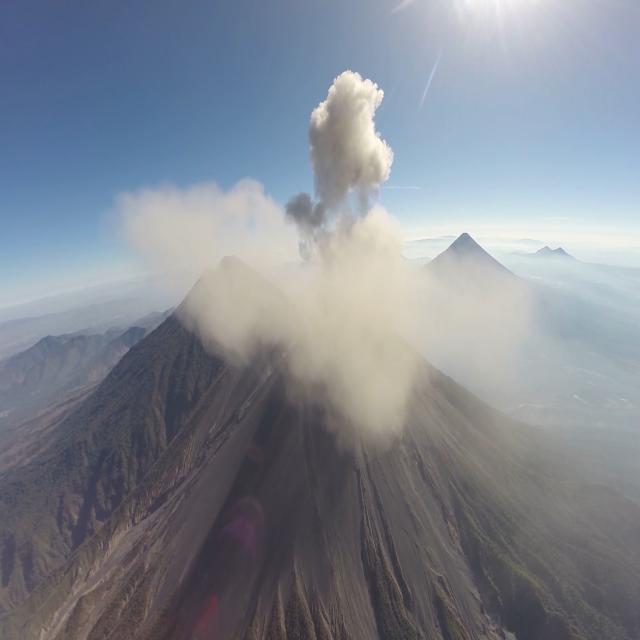Plume: (117, 164, 543, 466), (306, 64, 398, 216)
